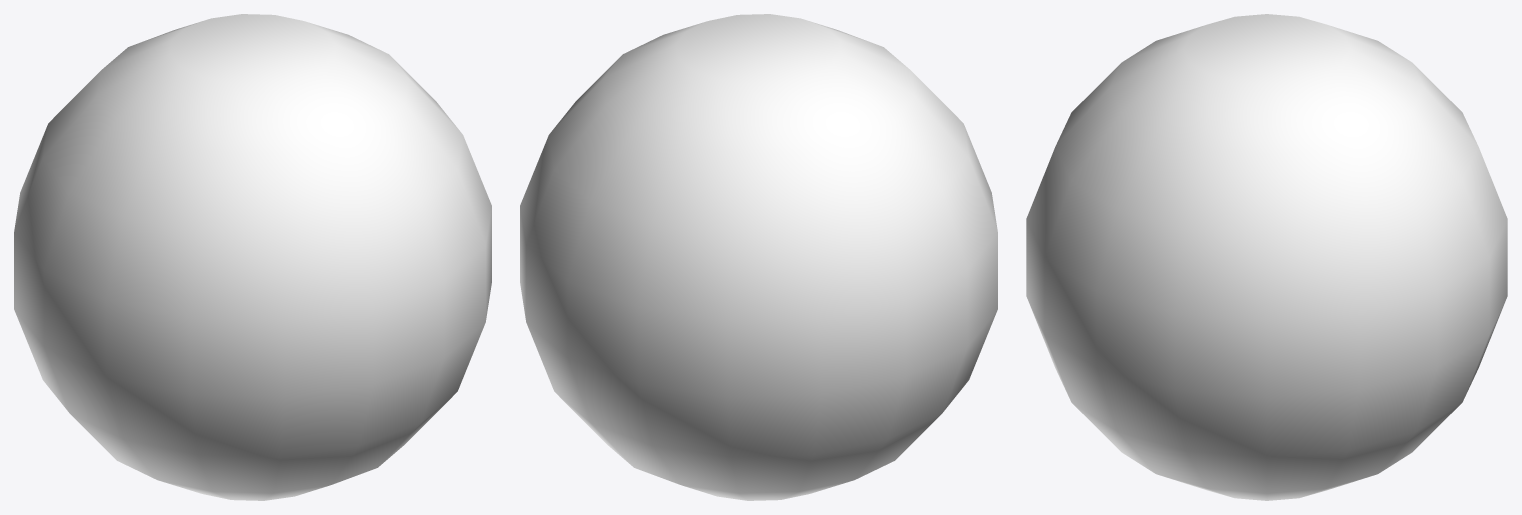
Rendered from diff_10.2.fbx.
3 views of the same model, side by side, from view 1: azimuth 30°, elevation 25°; view 2: azimuth 150°, elevation 25°; view 3: azimuth 270°, elevation 25° (orthographic).
Visible parts, largest first — view 1: Sphere.005; view 2: Sphere.005; view 3: Sphere.005.
Part boxes in pixels (x1,y1,x2,y2): Sphere.005: (14, 14, 491, 500); Sphere.005: (520, 14, 997, 500); Sphere.005: (1026, 14, 1507, 500).
Bounding box in the file's own units: 259 × 247 × 259.
